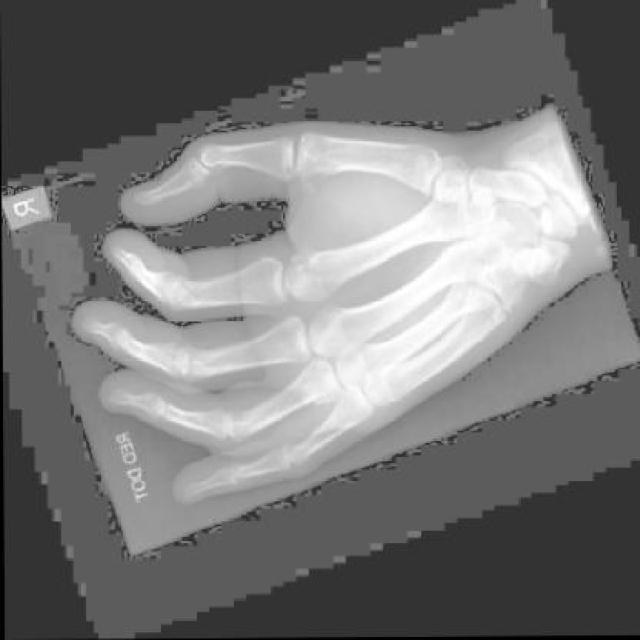Fracture: (290, 352, 341, 408)
